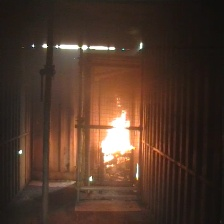fire: (95, 107, 137, 168)
